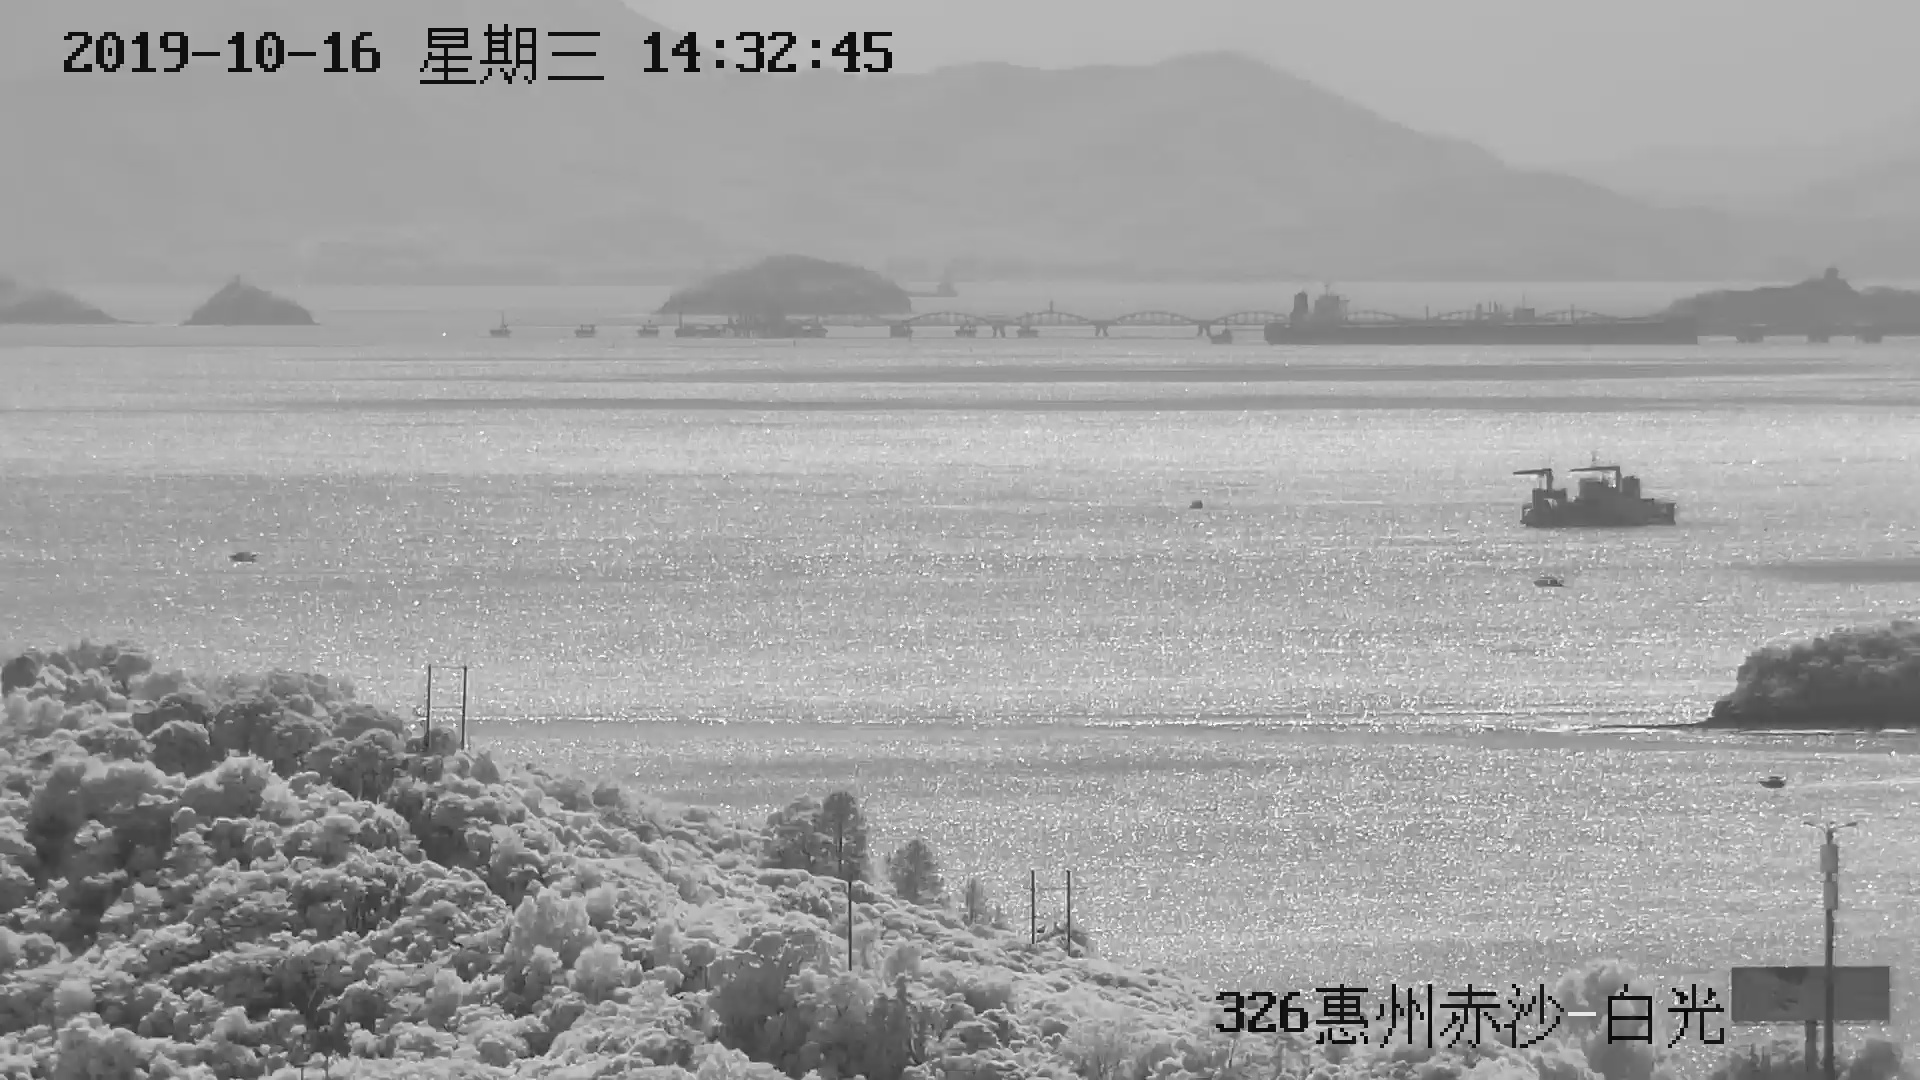ship: (1514, 459, 1681, 530)
